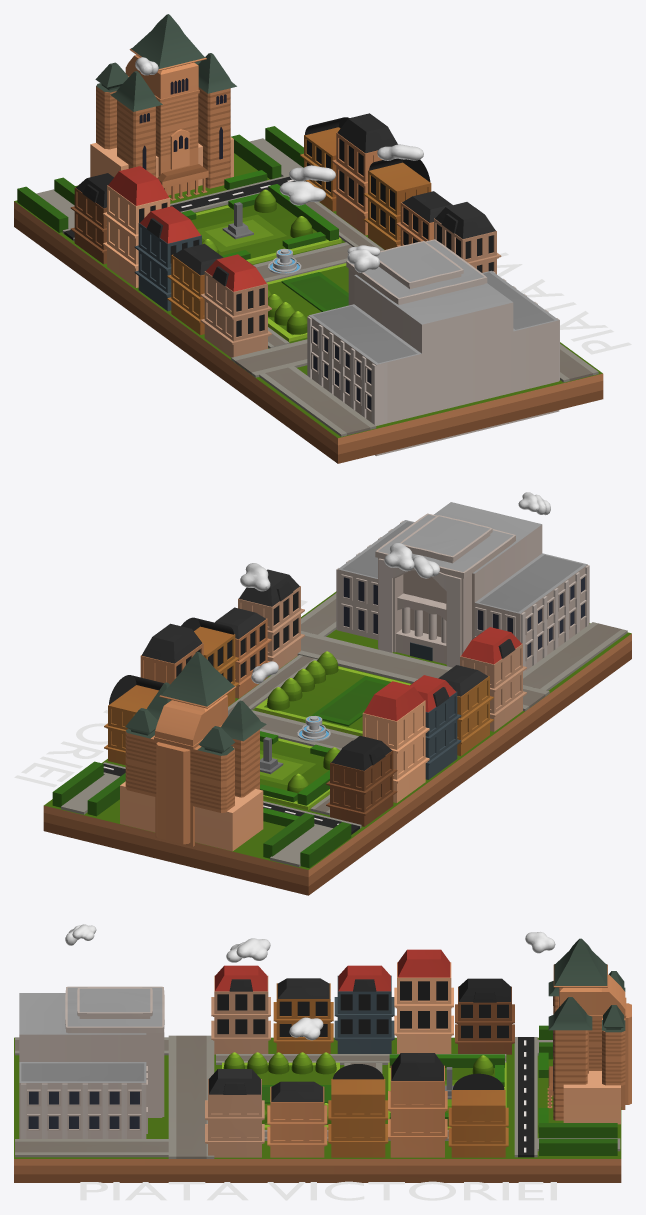
Rendered from Timisoara.glb.
The picture shows the model from 3 angles, top to bottom: view 1: azimuth 30°, elevation 25°; view 2: azimuth 150°, elevation 25°; view 3: azimuth 270°, elevation 25°; orthographic projection. The views are drawn at different scales.
Parts seen in each view (by area): view 1: Circle.002, Cube.003, Cube.019, Cube, Cube.002, Cube.016, Cube.028, Mball.004, Cube.017, Cube.015, Text, Cube.021 (+4 smaller); view 2: Circle.002, Cube.003, Cube.019, Cube, Cube.002, Cube.016, Cube.028, Mball.004, Cube.015, Circle, Cube.017, Text (+6 smaller); view 3: Circle.002, Cube.003, Cube, Cube.019, Cube.002, Text, Cube.027, Mball.004, Circle, Cube.016, Cube.017, Cube.020 (+1 smaller).
Boxes of the visible parts, left/top/right/bottom form: Circle.002: left=70, top=113, right=501, bottom=357; Cube.003: left=307, top=239, right=559, bottom=455; Cube.019: left=90, top=14, right=236, bottom=200; Cube: left=14, top=153, right=603, bottom=463; Cube.002: left=36, top=138, right=384, bottom=377; Cube.016: left=191, top=202, right=348, bottom=341; Cube.028: left=259, top=366, right=376, bottom=436; Mball.004: left=135, top=57, right=423, bottom=272; Cube.017: left=181, top=170, right=338, bottom=259; Cube.015: left=281, top=272, right=348, bottom=311; Text: left=497, top=252, right=631, bottom=354; Cube.021: left=17, top=186, right=68, bottom=232; Circle.002: left=104, top=569, right=526, bottom=826; Cube.003: left=336, top=502, right=589, bottom=672; Cube.019: left=120, top=651, right=266, bottom=851; Cube: left=43, top=591, right=631, bottom=895; Cube.002: left=61, top=631, right=549, bottom=867; Cube.016: left=255, top=666, right=410, bottom=809; Cube.028: left=523, top=622, right=627, bottom=690; Mball.004: left=240, top=492, right=550, bottom=683; Cube.015: left=311, top=676, right=390, bottom=726; Circle: left=267, top=651, right=338, bottom=710; Cube.017: left=260, top=731, right=331, bottom=826; Text: left=14, top=600, right=307, bottom=787; Circle.002: left=205, top=949, right=514, bottom=1157; Cube.003: left=19, top=986, right=164, bottom=1138; Cube: left=14, top=1037, right=621, bottom=1182; Cube.019: left=547, top=938, right=631, bottom=1124; Cube.002: left=168, top=1035, right=620, bottom=1158; Text: left=80, top=1181, right=556, bottom=1200; Cube.027: left=15, top=1139, right=168, bottom=1157; Mball.004: left=65, top=924, right=555, bottom=1040; Circle: left=223, top=1052, right=336, bottom=1124; Cube.016: left=222, top=1062, right=506, bottom=1129; Cube.017: left=389, top=1052, right=548, bottom=1132; Cube.020: left=539, top=1139, right=617, bottom=1155.
Bounding box in the file's own units: 19.16 × 11.09 × 33.13.
2 materials, 1 textured.
